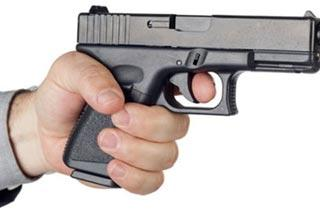gun: (59, 3, 320, 195)
